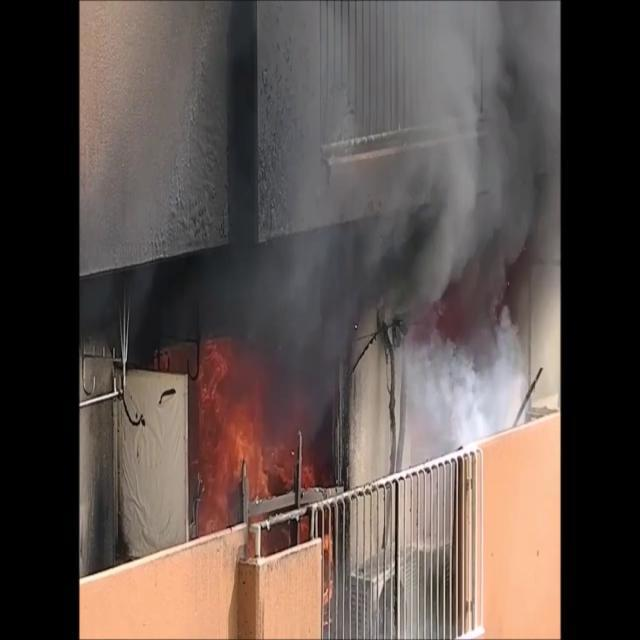Fire: (193, 337, 271, 515)
Smoke: (220, 2, 560, 438)
